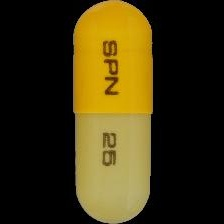17772-101: (0, 0, 224, 224)
